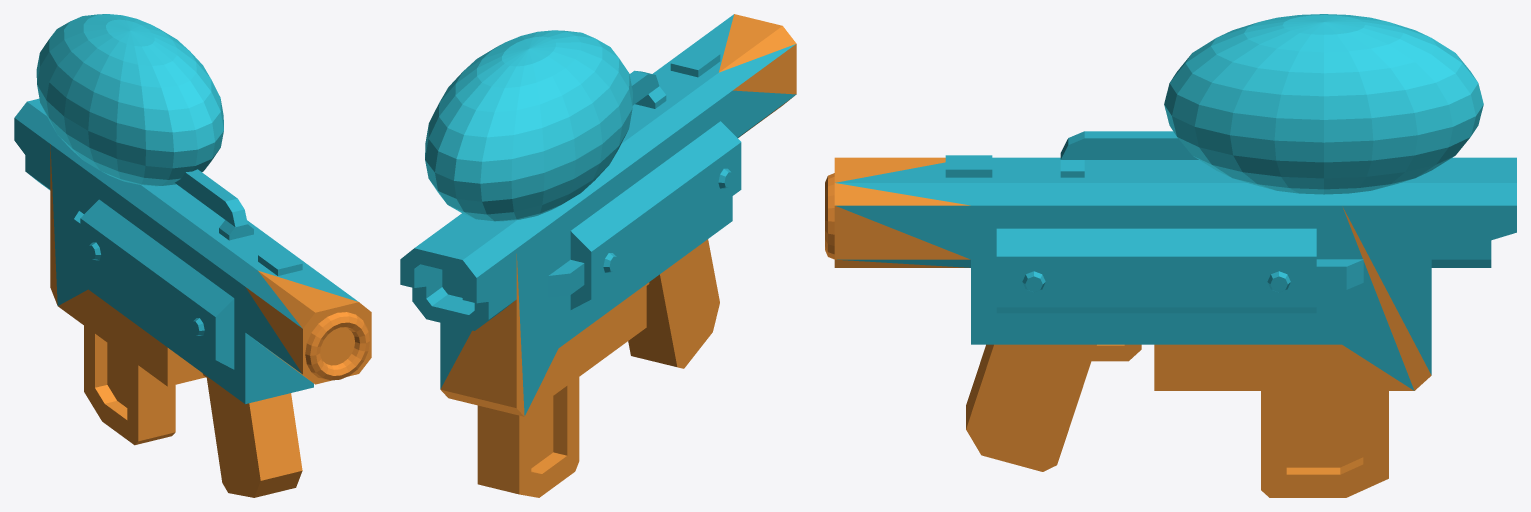
Rendered from water-pistol.glb.
3 renders of one model, left to right at view 1: azimuth 30°, elevation 25°; view 2: azimuth 150°, elevation 25°; view 3: azimuth 270°, elevation 25°, orthographic. The views are drawn at different scales.
Visible parts, largest first — view 1: blaster-a-adapted, Rounded water reservoir, magazine-adapted, Water-nozzle-rim; view 2: blaster-a-adapted, Rounded water reservoir, magazine-adapted; view 3: blaster-a-adapted, Rounded water reservoir, magazine-adapted, Water-nozzle-rim.
Boxes of the visible parts, <box> form: blaster-a-adapted: <box>14,98,371,497</box>; Rounded water reservoir: <box>36,14,223,186</box>; magazine-adapted: <box>84,326,175,445</box>; Water-nozzle-rim: <box>305,312,369,380</box>; blaster-a-adapted: <box>400,14,796,416</box>; Rounded water reservoir: <box>425,30,632,221</box>; magazine-adapted: <box>477,377,579,497</box>; blaster-a-adapted: <box>834,131,1516,471</box>; Rounded water reservoir: <box>1164,14,1483,194</box>; magazine-adapted: <box>1261,391,1388,497</box>; Water-nozzle-rim: <box>825,173,834,259</box>.
Bounding box in the file's own units: 0.17 × 0.4814 × 0.649.
